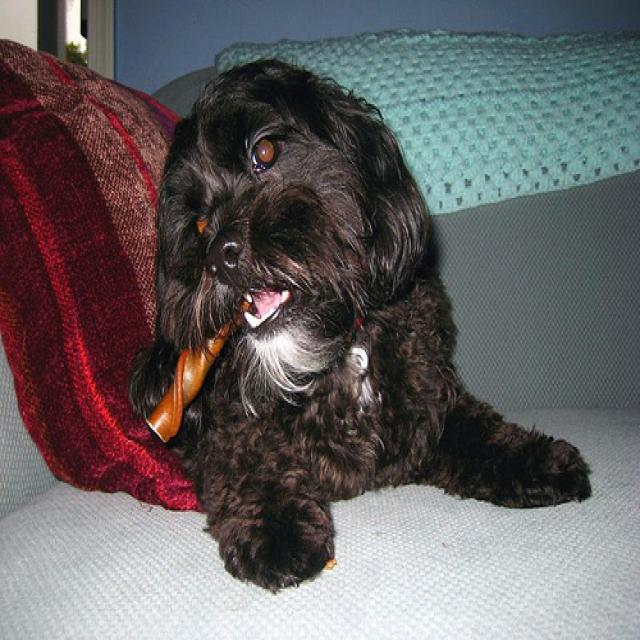dog-havanese: (146, 55, 598, 608)
